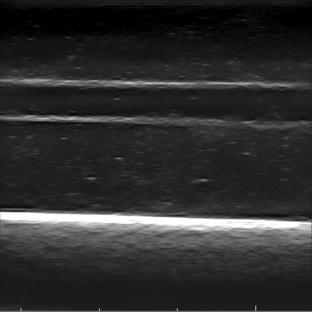vessel: (5, 79, 311, 128)
